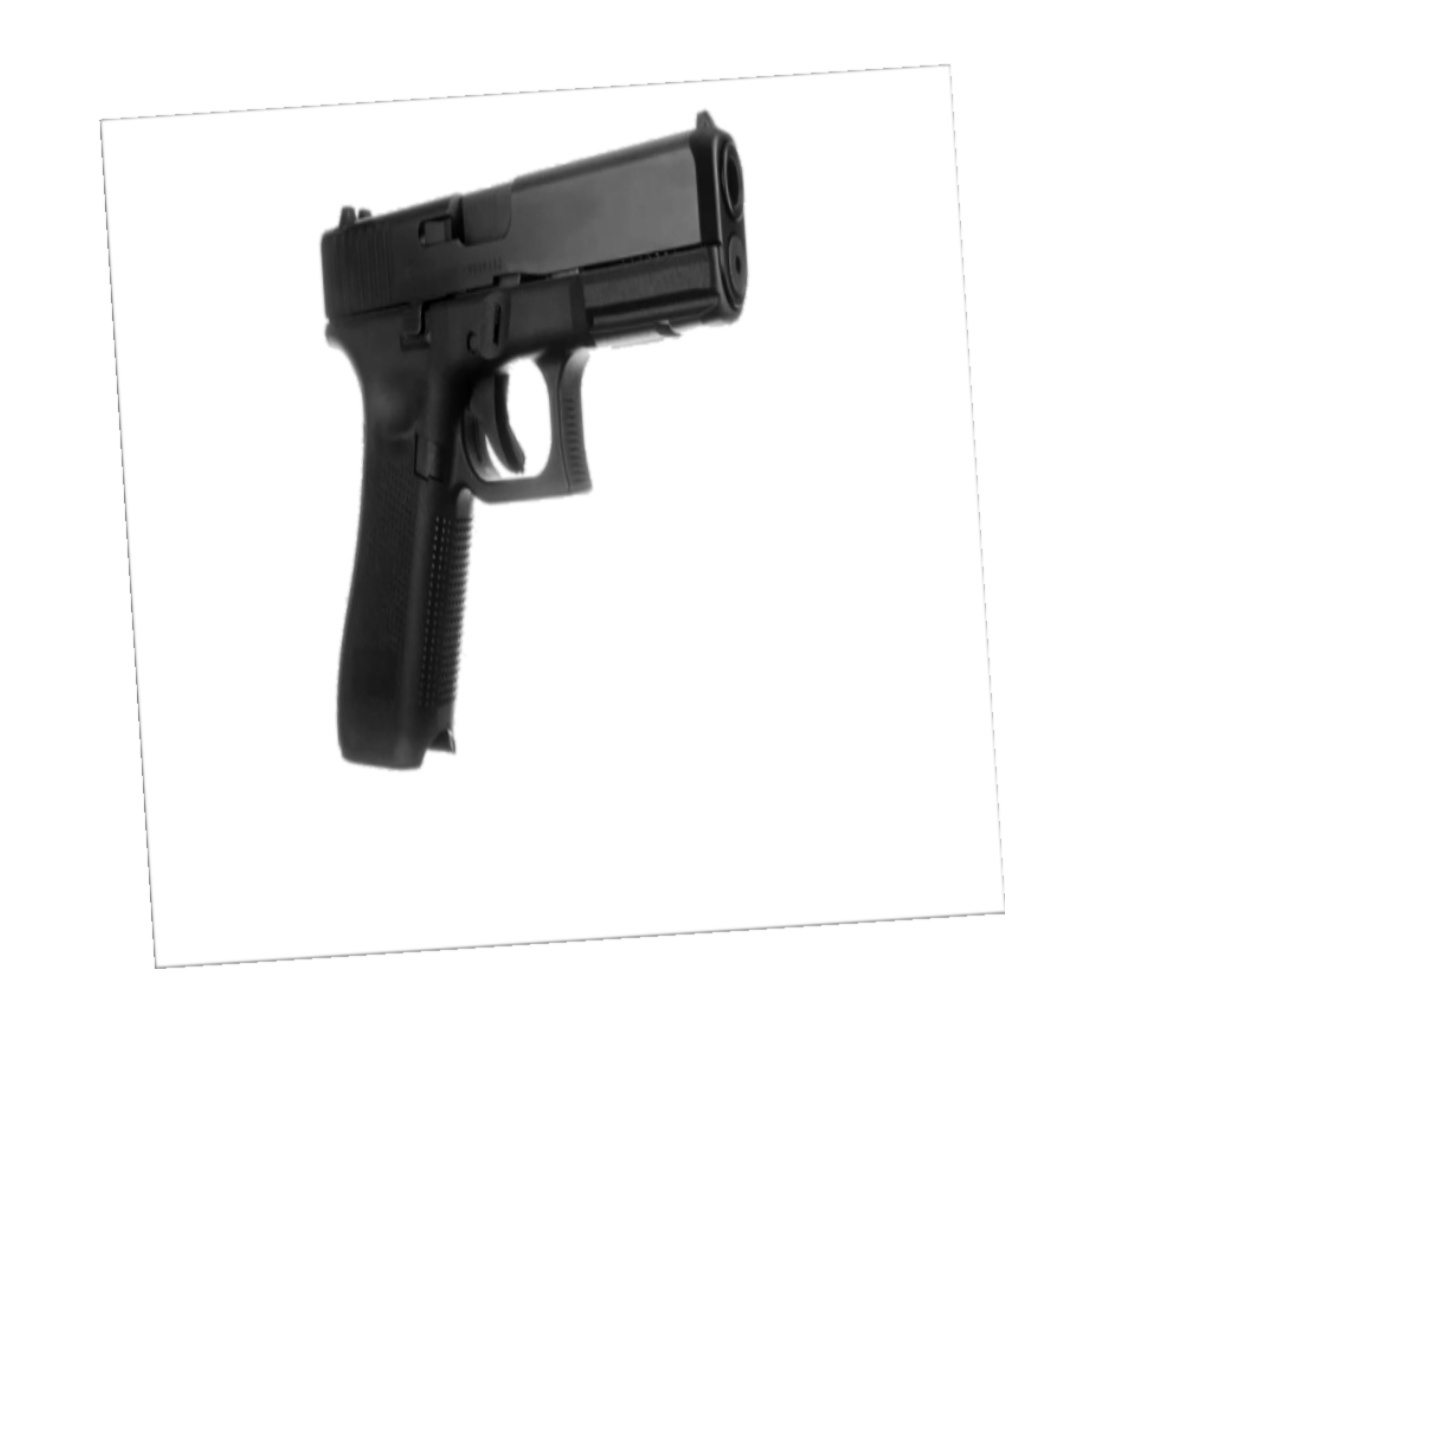gunw: (316, 108, 751, 773)
